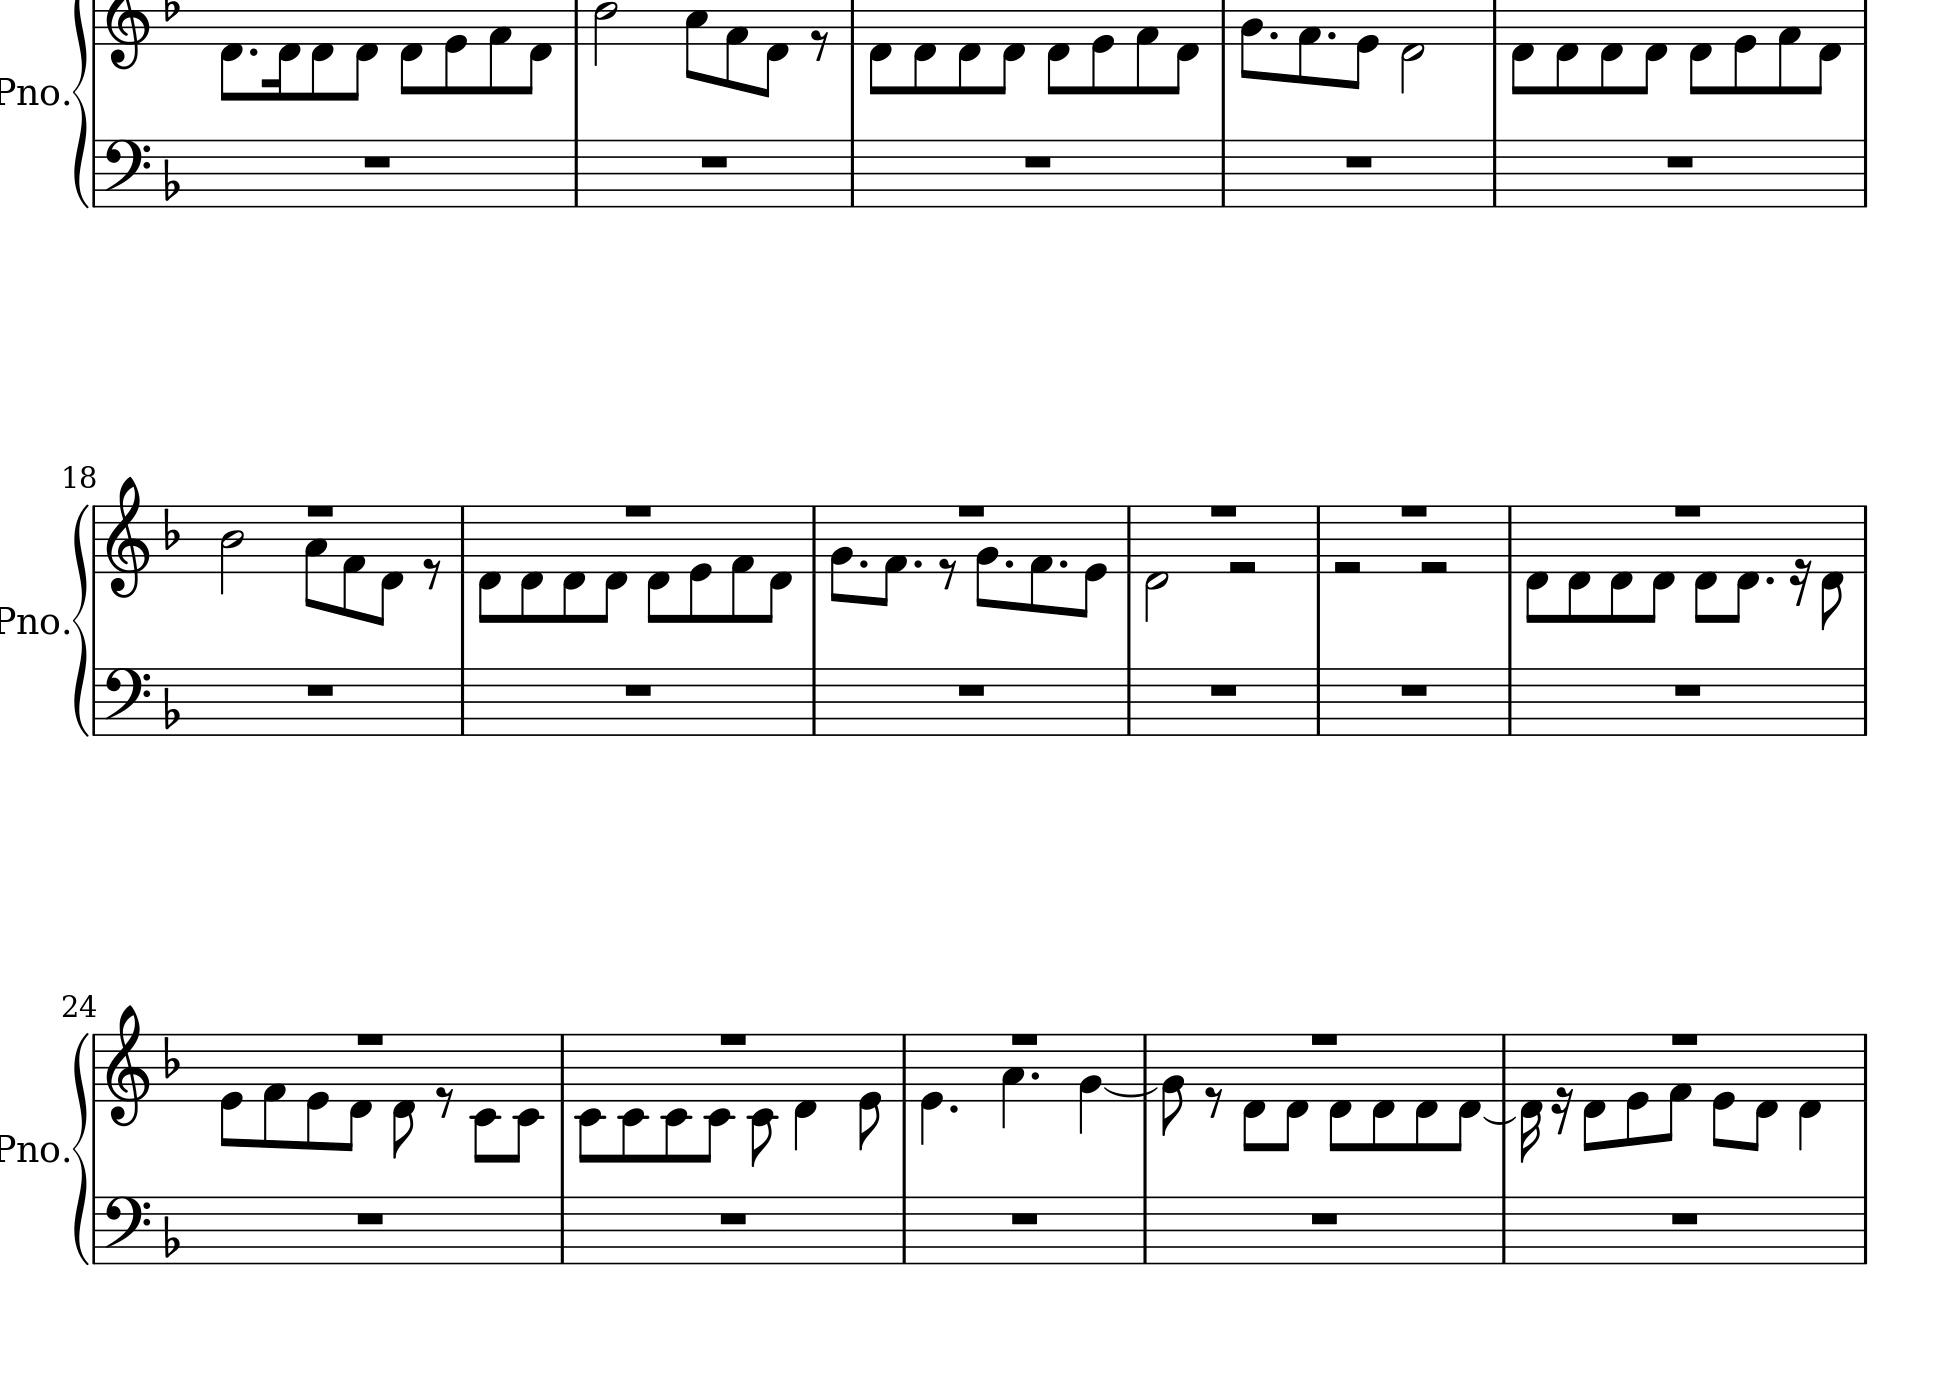1: (61, 462, 75, 489)
16_-1: (1518, 1030, 1545, 1165)
2: (60, 991, 78, 1018)
2_-1: (1143, 502, 1168, 622)
2_4: (219, 502, 244, 595)
4: (78, 991, 97, 1018)
4_0: (919, 1030, 943, 1146)
4_2: (1077, 1030, 1102, 1135)
8: (79, 462, 97, 489)
8_-1: (1452, 1030, 1482, 1153), (763, 502, 793, 624), (1731, 502, 1761, 624), (375, 502, 403, 627), (1818, 502, 1845, 631), (1647, 504, 1675, 625), (343, 1036, 372, 1153), (391, 1030, 417, 1159), (475, 502, 502, 624), (1581, 1032, 1608, 1152), (1752, 1032, 1779, 1152), (600, 505, 627, 624), (1281, 1033, 1308, 1152), (519, 502, 544, 625), (561, 502, 586, 625), (1566, 502, 1591, 625), (1524, 502, 1549, 624), (1608, 502, 1633, 624), (792, 1032, 817, 1153), (1371, 1032, 1396, 1152), (1242, 1032, 1266, 1153), (1414, 1032, 1438, 1153), (1797, 1030, 1821, 1150), (646, 505, 670, 622), (1329, 1036, 1353, 1153), (1695, 505, 1717, 624)
8_-2: (468, 1030, 501, 1164), (510, 1030, 543, 1162), (700, 1035, 733, 1165), (616, 1032, 648, 1162), (574, 1030, 604, 1164), (661, 1030, 691, 1164), (748, 1032, 775, 1167)
8_0: (1078, 502, 1107, 619), (688, 502, 712, 624), (304, 1030, 328, 1150), (1626, 1030, 1650, 1147), (1713, 1032, 1737, 1147), (858, 1030, 880, 1149), (220, 1032, 243, 1147)
8_1: (877, 502, 907, 609), (729, 502, 754, 622), (340, 502, 366, 621), (262, 1032, 286, 1149), (1029, 502, 1053, 616)
8_2: (975, 502, 999, 610), (1161, 1030, 1185, 1135), (829, 504, 853, 604)
8_3: (303, 502, 327, 612)
Brace: (70, 1027, 90, 1267), (70, 502, 90, 736)
Fclef: (100, 136, 150, 205), (100, 664, 151, 726), (102, 1192, 150, 1255)
Flat: (160, 684, 181, 730), (160, 1033, 181, 1080), (160, 1213, 181, 1260), (160, 505, 181, 550), (162, 156, 181, 202)
Gclef: (103, 474, 148, 598), (103, 1003, 148, 1126)
Pno: (1, 73, 61, 111), (1, 1131, 60, 1167), (1, 603, 60, 637)
Rests1: (952, 499, 990, 520), (303, 499, 337, 520), (1206, 501, 1242, 520), (301, 679, 337, 699), (954, 679, 990, 699), (1206, 679, 1242, 699), (621, 501, 655, 520), (1671, 501, 1705, 520), (1671, 679, 1705, 699), (352, 1029, 387, 1048), (715, 1029, 750, 1048), (1008, 1029, 1042, 1048), (1308, 1029, 1342, 1048), (1668, 1029, 1702, 1048), (352, 1207, 387, 1227), (1008, 1207, 1042, 1227), (1308, 1207, 1342, 1227), (1668, 1207, 1702, 1227), (358, 151, 394, 169), (1020, 151, 1056, 169), (1341, 151, 1377, 169), (1662, 151, 1698, 169), (715, 1207, 751, 1225), (1398, 679, 1431, 699), (697, 151, 732, 169), (1398, 501, 1432, 519), (621, 679, 655, 697)
Rests16: (1788, 555, 1812, 607), (1551, 1084, 1573, 1134)
Rests2: (1329, 555, 1366, 577), (1417, 556, 1452, 577), (1227, 556, 1260, 576)
Rests8: (1203, 1084, 1225, 1117), (937, 556, 958, 591), (421, 556, 442, 589), (433, 1084, 454, 1117)
Single_barline: (1309, 505, 1329, 571), (1309, 667, 1327, 735), (553, 1033, 571, 1101), (895, 1195, 913, 1263), (1137, 1033, 1155, 1096), (805, 667, 822, 735), (1120, 667, 1137, 735), (1857, 667, 1873, 735), (1495, 1033, 1512, 1101), (553, 1195, 570, 1263), (1137, 1195, 1153, 1263), (1495, 1195, 1512, 1263), (1857, 1195, 1873, 1263), (1215, 139, 1231, 205), (1857, 139, 1873, 205), (1857, 505, 1873, 571), (805, 505, 822, 571), (1501, 505, 1518, 571), (1857, 1033, 1873, 1099), (895, 1033, 912, 1099), (568, 139, 583, 207), (844, 139, 859, 207), (454, 667, 469, 735), (1503, 667, 1518, 735), (1488, 139, 1503, 205), (454, 505, 469, 571), (1122, 505, 1137, 571), (87, 1033, 102, 1099), (88, 139, 102, 207), (88, 667, 102, 735), (88, 1195, 102, 1263), (88, 505, 100, 571)
Slur: (1101, 1084, 1162, 1096), (1482, 1114, 1518, 1125)
dot: (1026, 1069, 1042, 1083), (946, 1101, 961, 1114), (246, 45, 259, 58), (856, 556, 870, 570), (1266, 28, 1281, 40), (912, 556, 924, 570), (1003, 556, 1017, 568), (1057, 556, 1069, 570), (1326, 28, 1338, 40), (1764, 574, 1776, 586)
